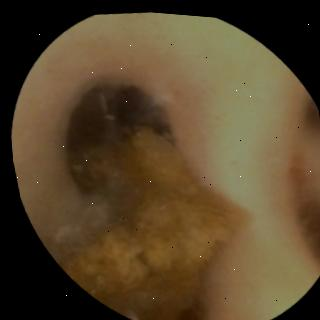stone: (62, 125, 244, 320)
